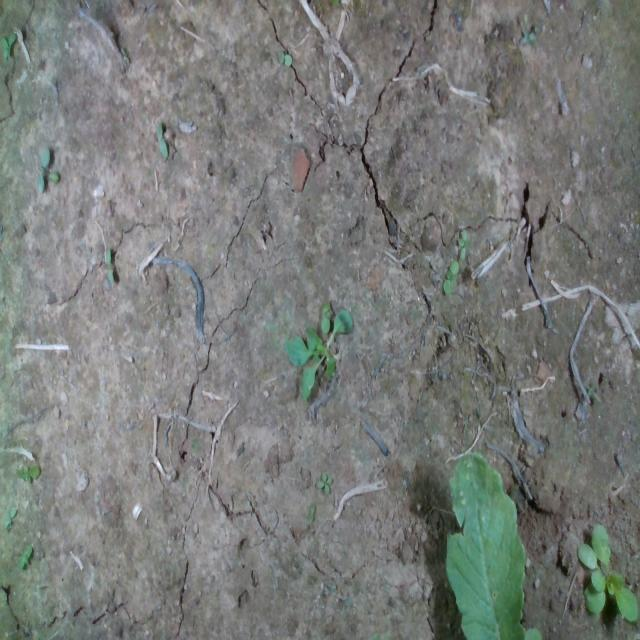weed: (15, 460, 40, 486), (442, 259, 458, 295), (156, 121, 168, 159), (314, 470, 332, 495), (3, 502, 17, 530), (104, 246, 114, 284), (18, 542, 32, 568), (277, 50, 293, 66), (306, 502, 314, 523)
